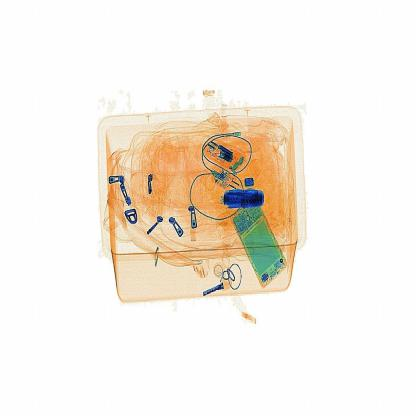scissors: (218, 178, 273, 209)
